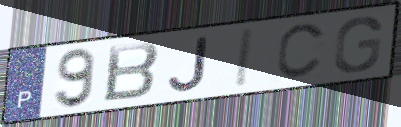9: (53, 46, 98, 111)
B: (101, 40, 162, 104)
C: (274, 20, 329, 82)
G: (331, 14, 385, 74)
I: (233, 26, 256, 90)
J: (166, 34, 210, 94)
